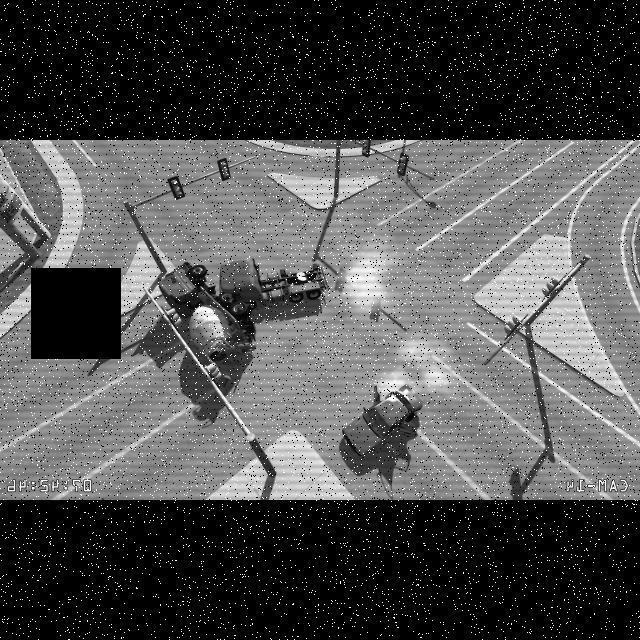accident: (160, 256, 330, 363)
vehicle: (341, 382, 425, 462)
